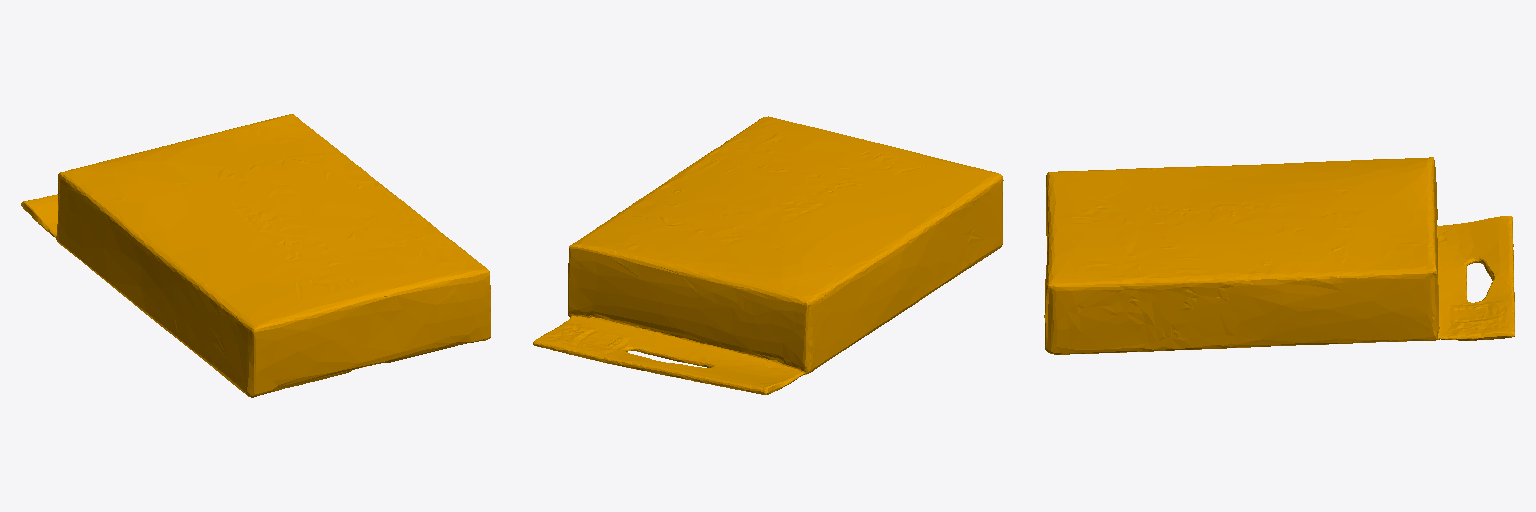
The robot description file, URDF, robot "model.urdf":
<?xml version="0.0" ?>
<robot name="model.urdf">
  <link name="baseLink">
    <visual>
			<origin xyz="0 0 0" rpy="-1.57 0 0"/>
      <geometry>
        <mesh filename="model.obj" scale="1 1 1"/>
      </geometry>
      <material name="white">
        <texture filename="assets/urdf_models//models/Brother_Ink_Cartridge_Magenta_LC75M_2/texture.png"/>
      </material>
    </visual>
    <collision>
      <geometry>
    	 	<mesh filename="model.obj" scale="1 1 1"/>
      </geometry>
    </collision>
    <inertial>
			<mass value="0.76136"/>
			<inertia  ixx="0.0014316" ixy="0.00" ixz="0.00" iyy="0.0018601" iyz="0.00" izz="0.00054968" />
		</inertial>
  </link>
</robot>

--- What the picture shows (computed from the rendered views, not written in the file) ---
The picture shows the robot from 3 angles, left to right: view 1: azimuth 30°, elevation 25°; view 2: azimuth 150°, elevation 25°; view 3: azimuth 270°, elevation 25°; orthographic projection.
Model model.urdf with 1 links and 0 joints (none), rooted at baseLink, posed every joint at zero.
Visible links, largest first — view 1: baseLink; view 2: baseLink; view 3: baseLink.
Link boxes in pixels (left/top/right/bottom): baseLink: left=21, top=114, right=490, bottom=397; baseLink: left=533, top=116, right=1003, bottom=394; baseLink: left=1044, top=157, right=1514, bottom=354.
Bounding box of the posed robot: 0.0878 × 0.1472 × 0.031 m (x, y, z).
1 mesh visuals loaded from 1 distinct referenced files (1 OBJ).